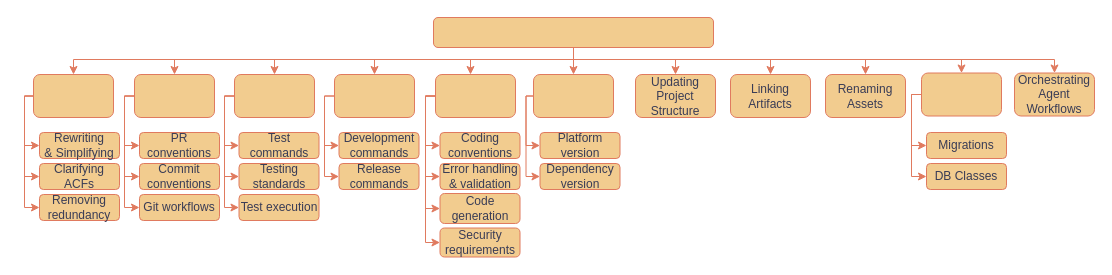
Some shapes in this 1112 by 275 pixel diagram are drawn without their labels. Each missing label, with the centre of its shape:
Directing Testing Practices: pixel 274 96
Enforcing Code Standards: pixel 475 96
Refining ACF Content: pixel 73 96
Standardizing Collaboration Practices: pixel 174 96
Taxonomy of agent instruction file edits: pixel 573 32
Updating Commands: pixel 374 96
Updating Database: pixel 961 94
Updating Version: pixel 573 96
